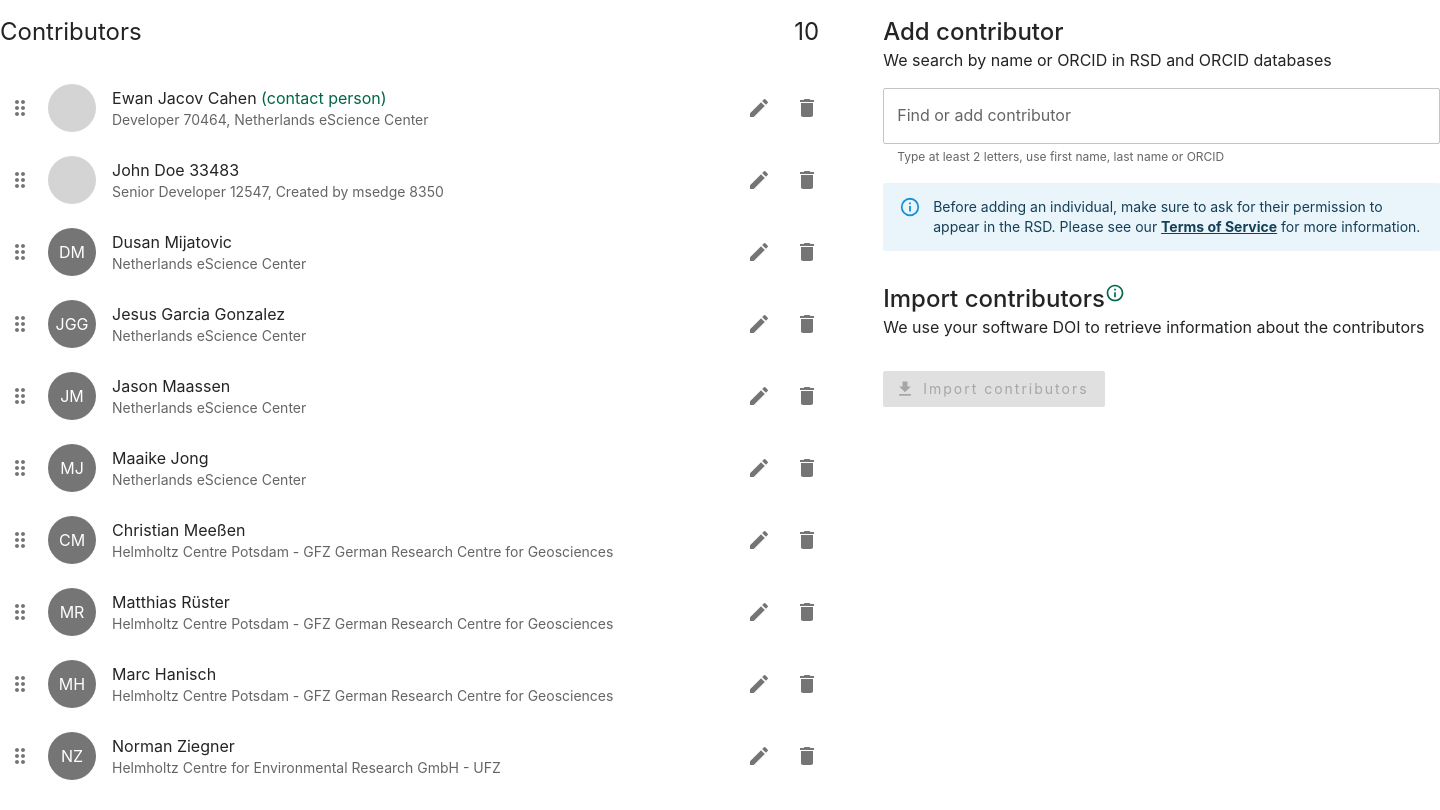
Test: frontend/components/software/edit/contributors/index.tsx › can CANCEL modal changes
// edit first member
Step 1. Click the button with test id "EditIcon" → click(759, 108), box [739,88,779,128]
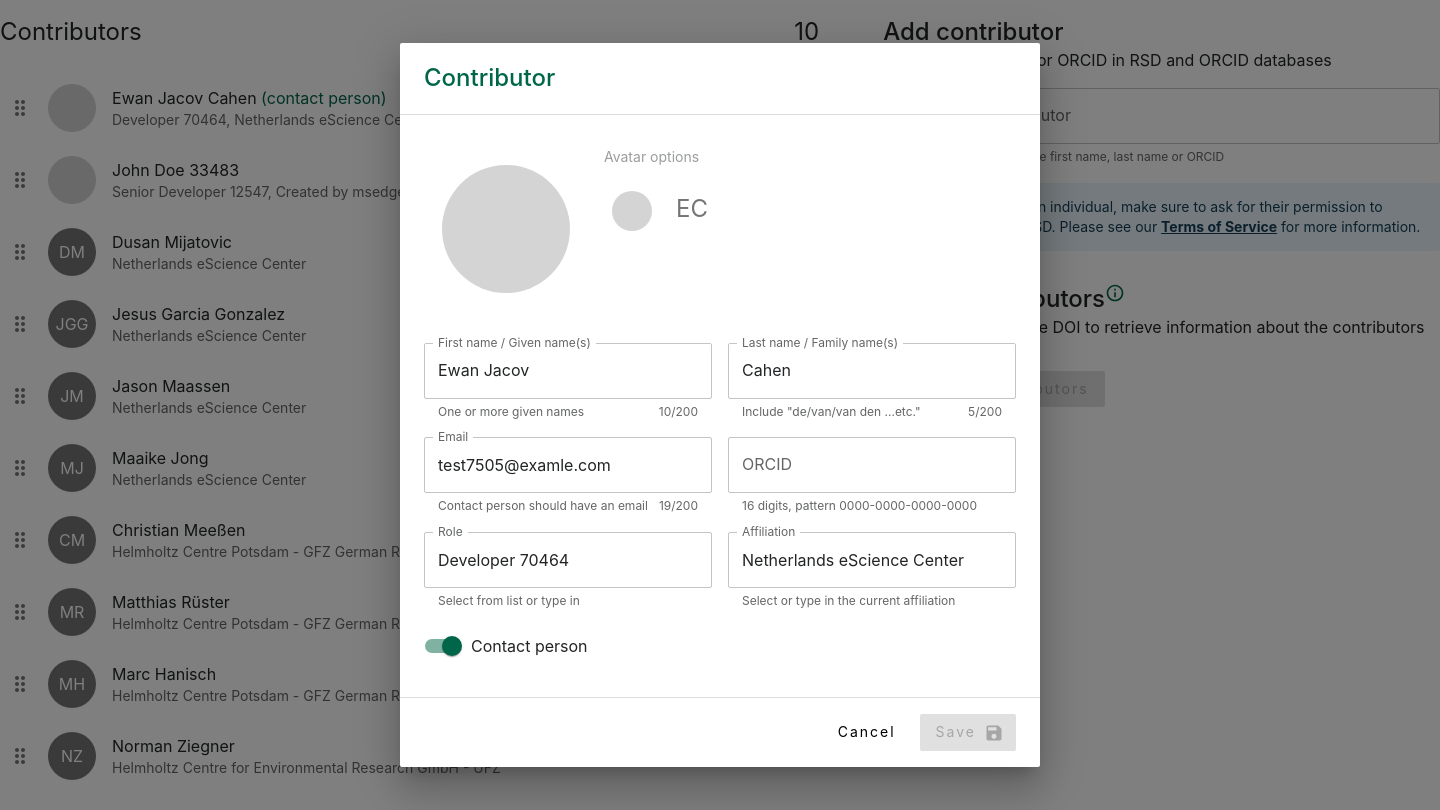
// click on no image button
Step 2. Click the button with test id "no-image-btn" → click(692, 211), box [664,183,720,239]
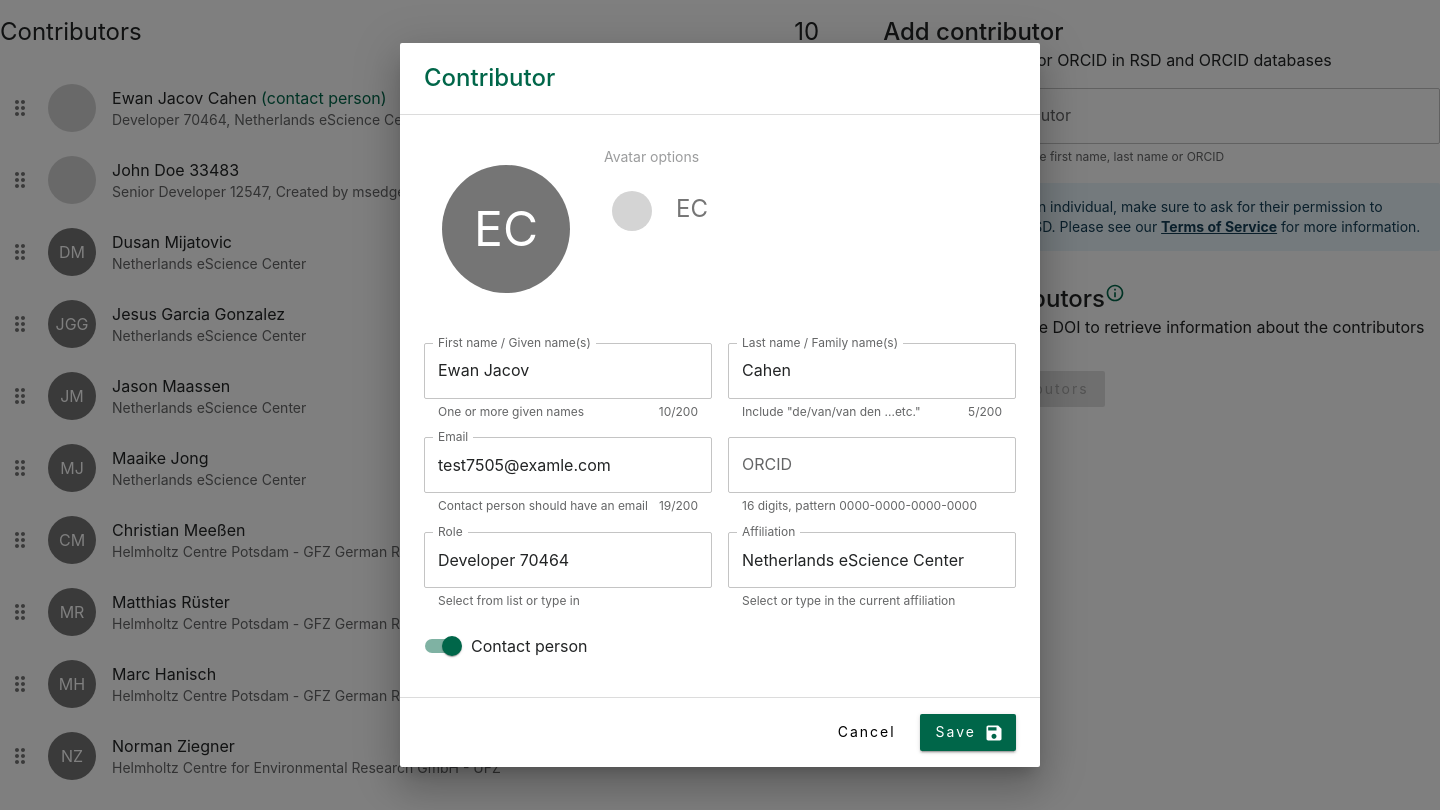
Expected: the button "Save" is enabled, [920,714,1016,751]
Step 3. Click the button "Cancel" → click(867, 733), box [830,714,904,751]
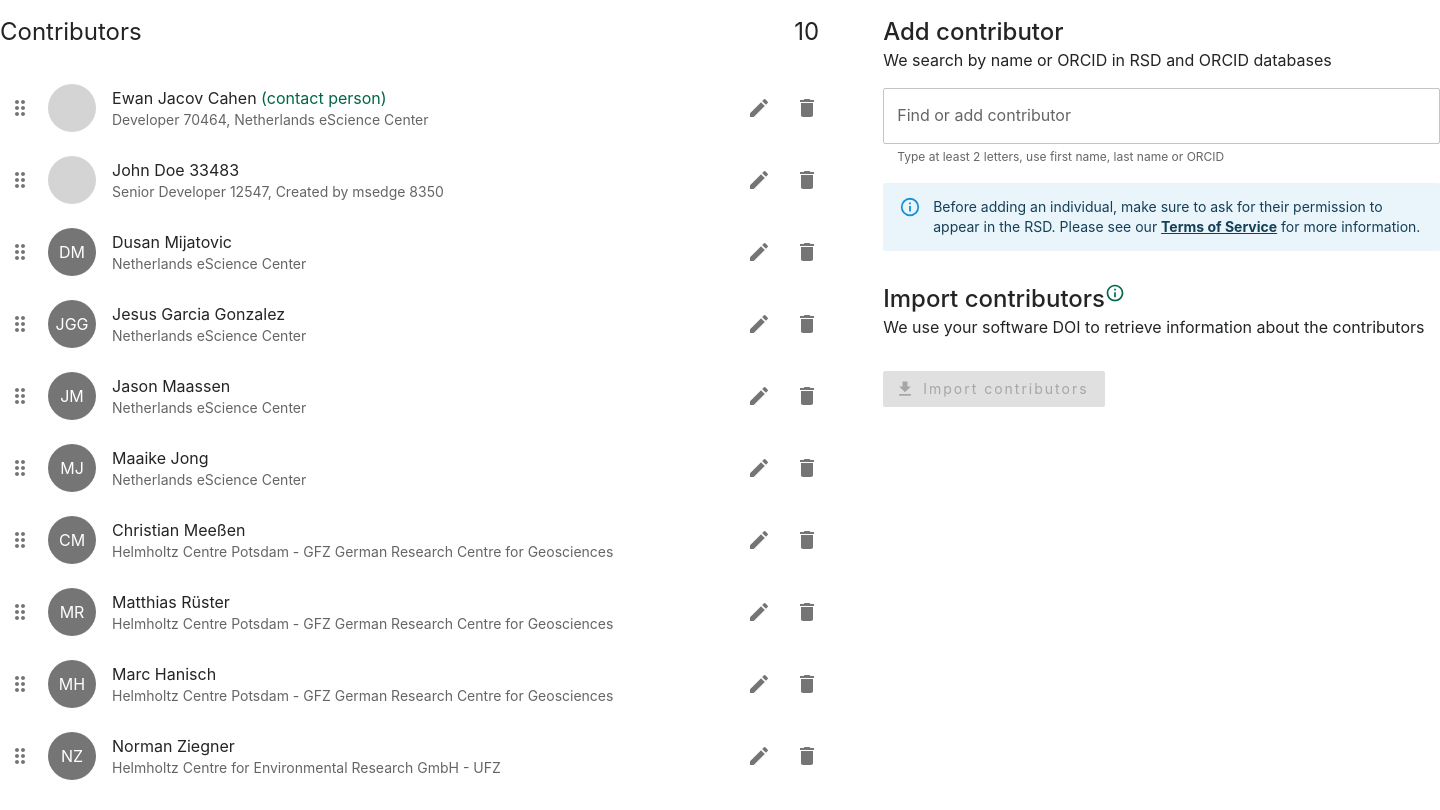
Expected: the dialog is gone
